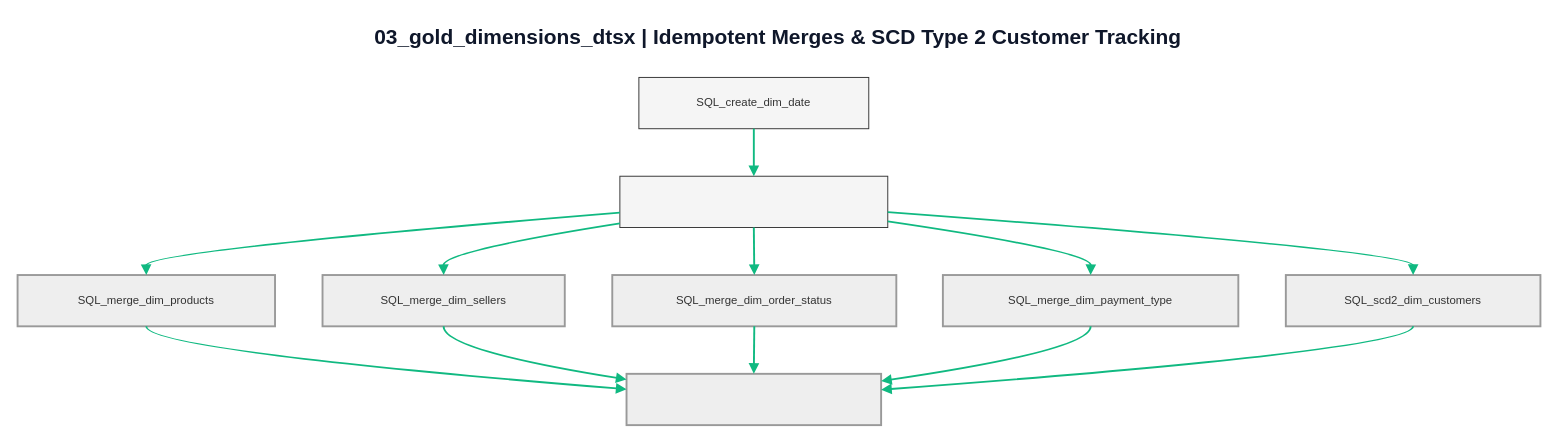
Some shapes in this 1557 by 442 pixel diagram are drawn without their labels. Each missing label, with the centre of its shape:
"SQL_log_gold_dimensions" belongs at pixel 753 399.
"SQL_merge_dim_geography" belongs at pixel 753 201.
